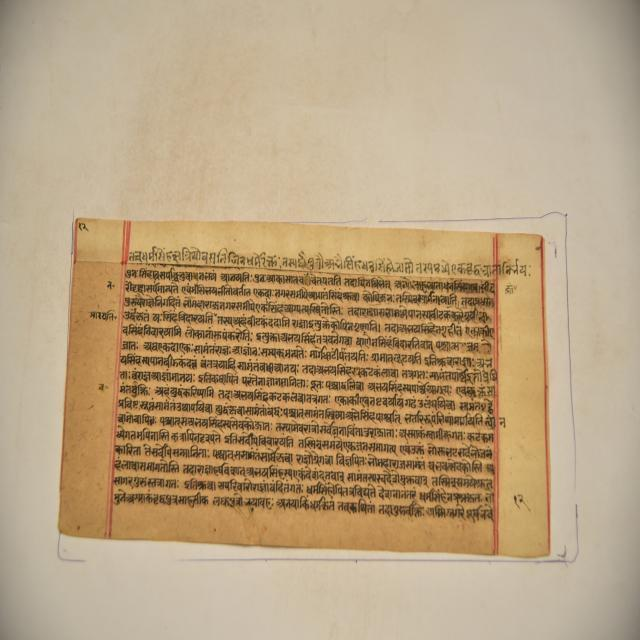text_paragraph: (56, 220, 552, 561)
